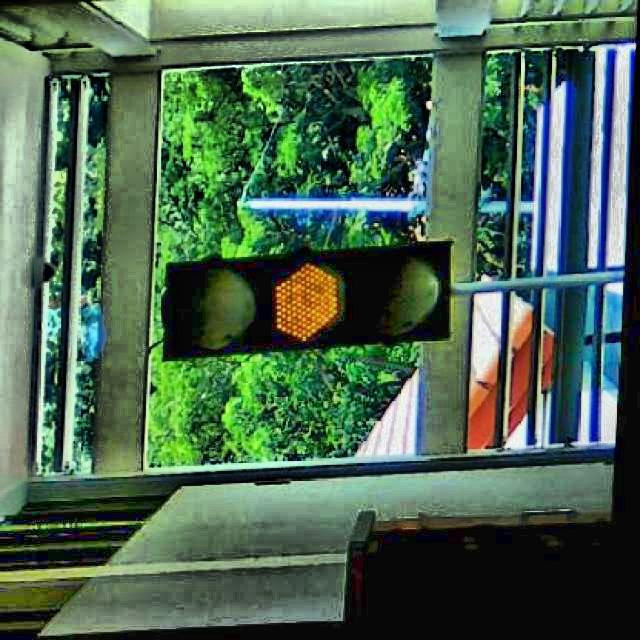yellow: (166, 230, 459, 356)
